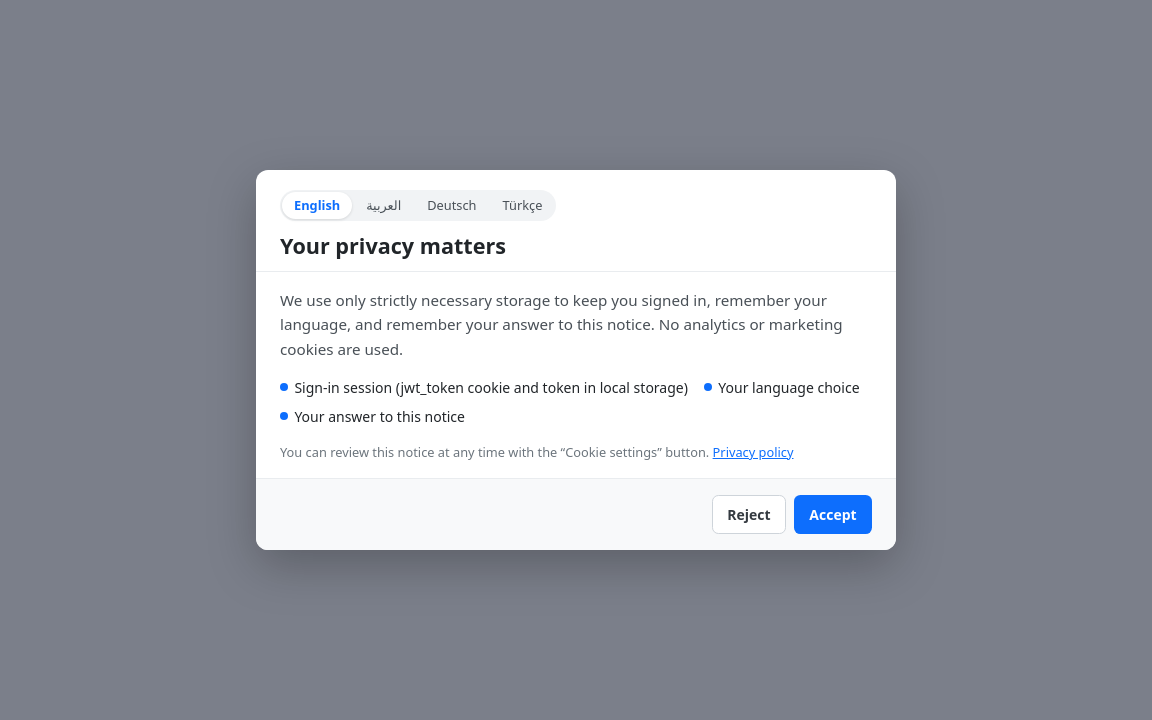
shows the notice in English and saves acceptance
The width and height of the screenshot is (1152, 720).
Expected: the heading "Your privacy matters" is shown, left=280, top=231, right=506, bottom=260
Click the button "Accept" at (833, 515), box left=794, top=495, right=872, bottom=534
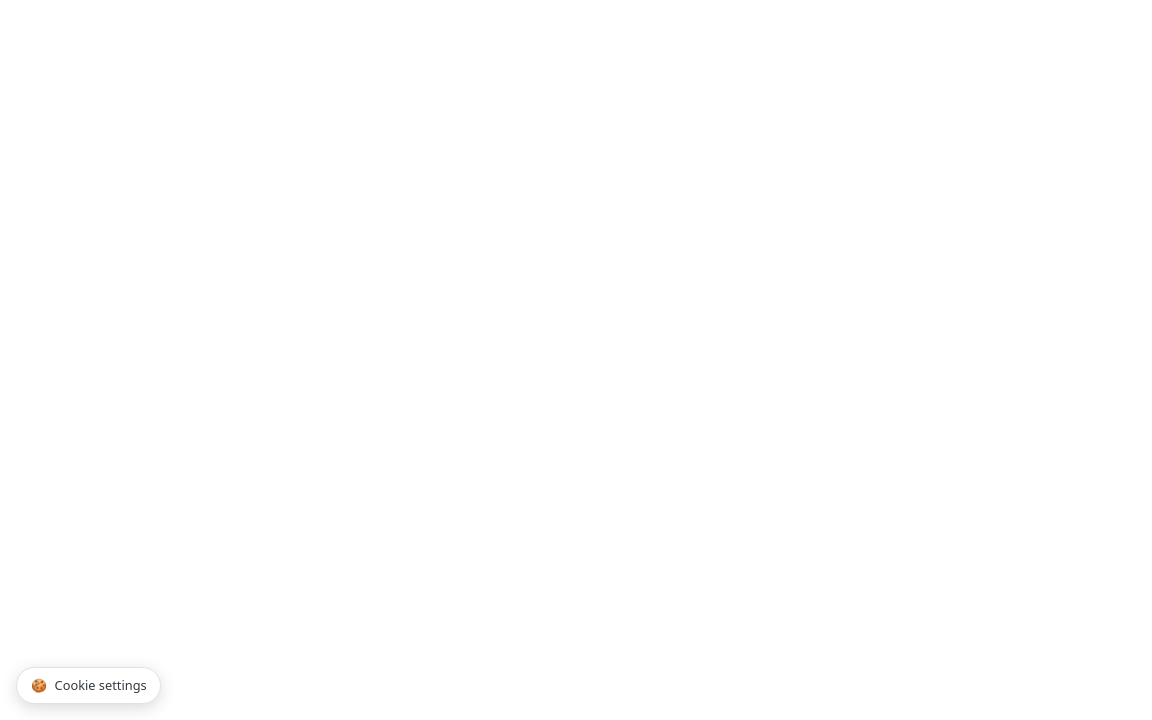
Expected: the dialog is gone
Expected: the button "🍪 Cookie settings" is shown, left=16, top=667, right=161, bottom=704
